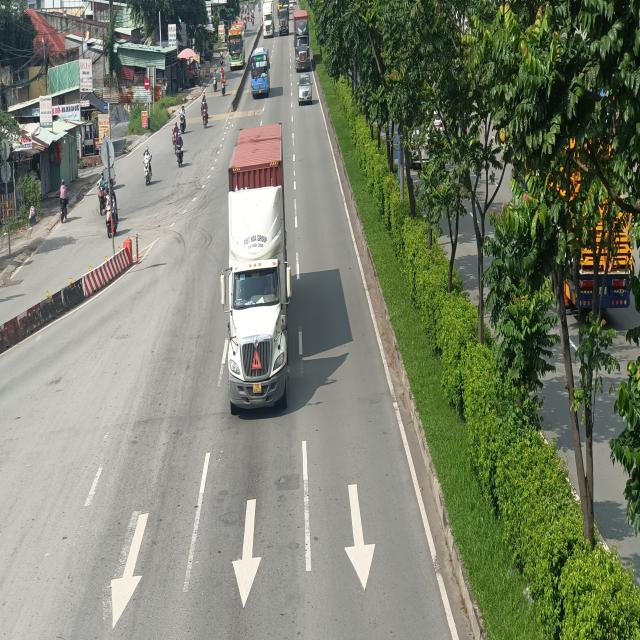car: (296, 73, 314, 105)
coach: (249, 46, 270, 97), (228, 23, 246, 69)
container: (222, 121, 293, 414), (293, 10, 311, 72), (262, 0, 274, 38), (278, 3, 290, 34)
